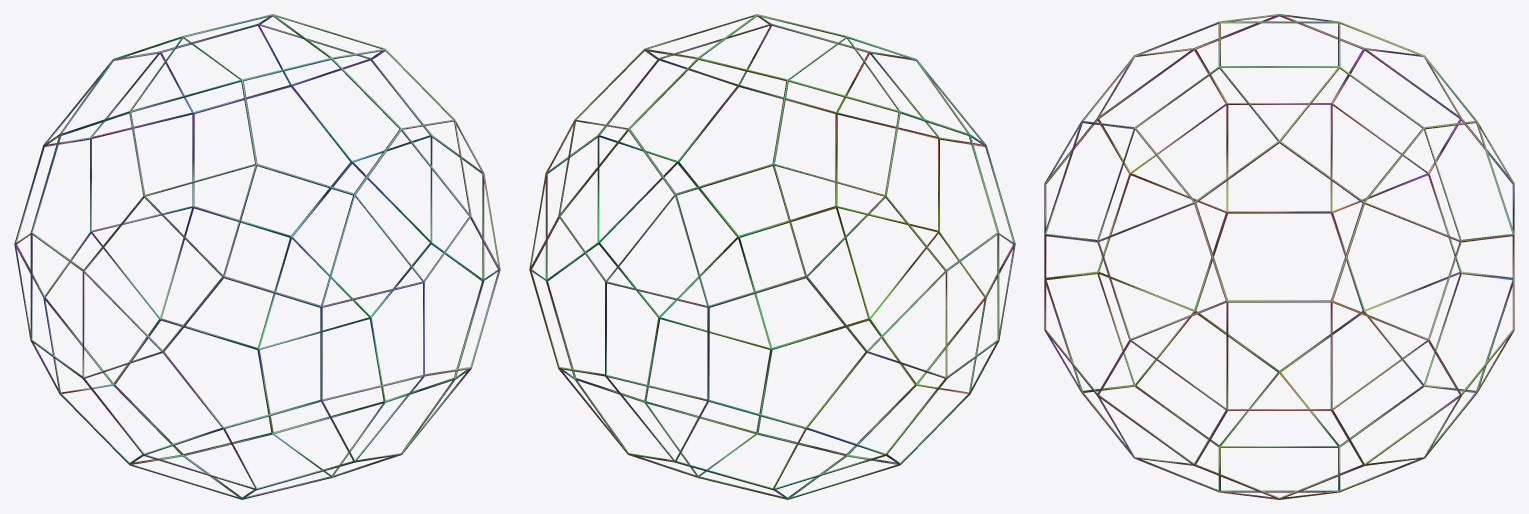
The model's file is zeometry-wireframes-wire-rhombicosidodecahedron_v2.glb.
The picture shows the model from 3 angles, left to right: view 1: azimuth 30°, elevation 25°; view 2: azimuth 150°, elevation 25°; view 3: azimuth 270°, elevation 25°; orthographic projection.
Parts seen in each view (by area): view 1: Wire Rhombicosidodecahedron_v2; view 2: Wire Rhombicosidodecahedron_v2; view 3: Wire Rhombicosidodecahedron_v2.
Boxes of the visible parts, x1=… form: Wire Rhombicosidodecahedron_v2: x1=14, y1=14, x2=500, y2=499; Wire Rhombicosidodecahedron_v2: x1=529, y1=14, x2=1015, y2=499; Wire Rhombicosidodecahedron_v2: x1=1044, y1=14, x2=1514, y2=499.
Bounding box in the file's own units: 0.5 × 0.5 × 0.5.
